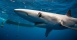Azul: (11, 5, 77, 36)
